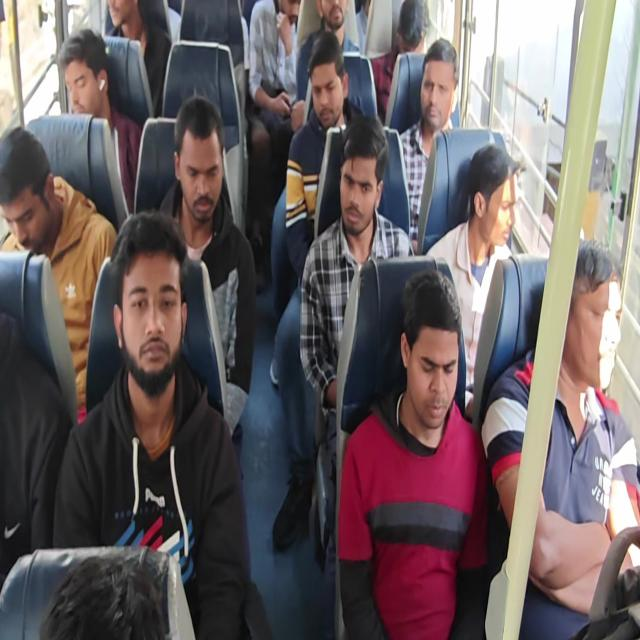person: (1, 1, 638, 638), (51, 209, 271, 638), (481, 237, 639, 617), (337, 268, 489, 638), (298, 114, 414, 553), (270, 31, 365, 550), (158, 94, 256, 479), (0, 126, 119, 424), (424, 142, 519, 418), (285, 31, 365, 283), (58, 28, 142, 215), (246, 0, 304, 248), (398, 38, 459, 246), (104, 0, 172, 118), (370, 0, 429, 123), (296, 0, 360, 108)
